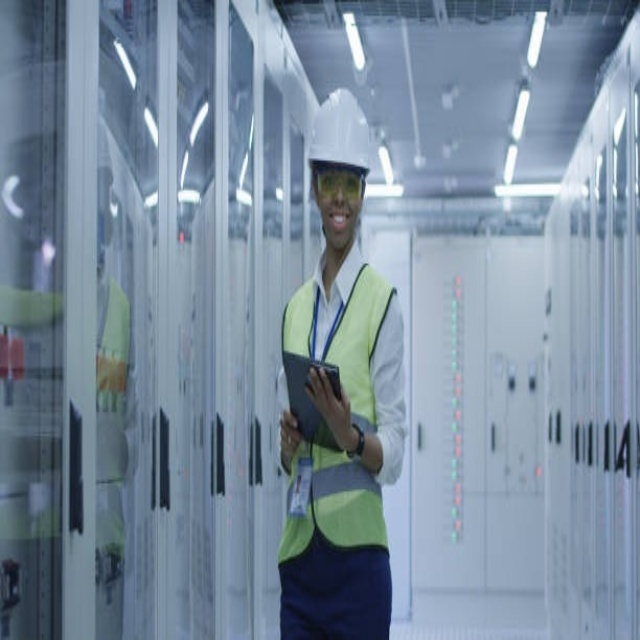Gafas: (311, 168, 365, 200)
Sin_guantes: (304, 367, 352, 445), (279, 413, 304, 472)
Sin_mascara: (325, 204, 352, 238)
